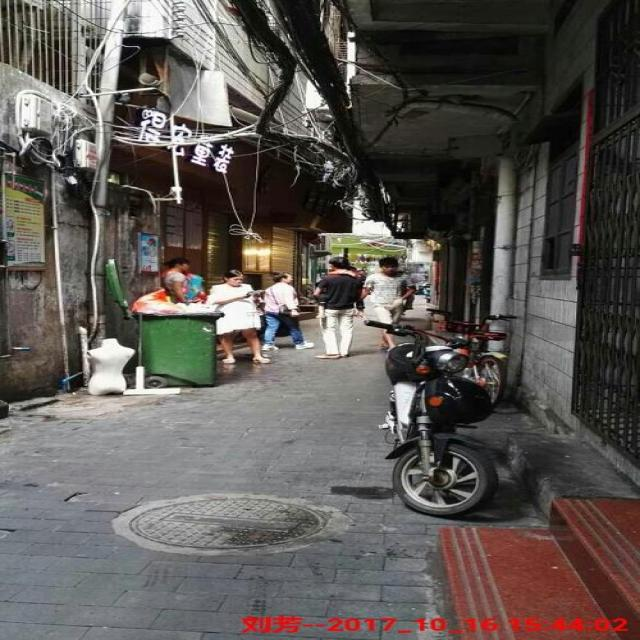overflow: (131, 288, 224, 387)
